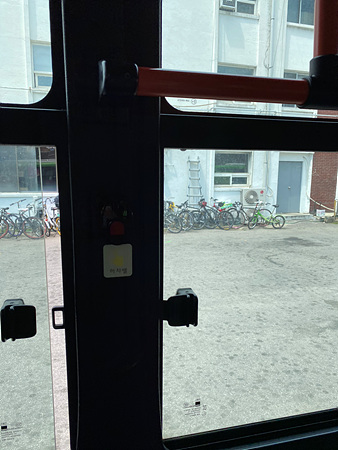bell: (103, 204, 133, 247)
